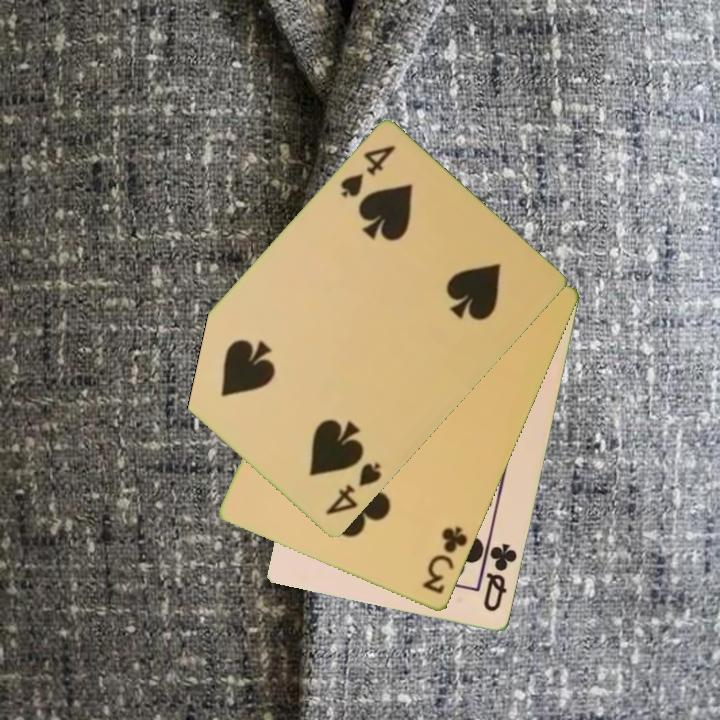3c: (419, 523, 471, 598)
4s: (321, 459, 385, 519), (336, 142, 399, 201)
Qc: (480, 540, 521, 615)
